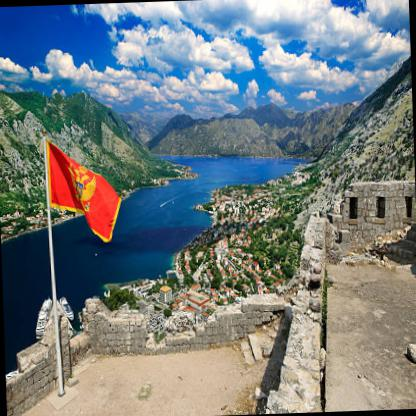me: (47, 136, 126, 251)
